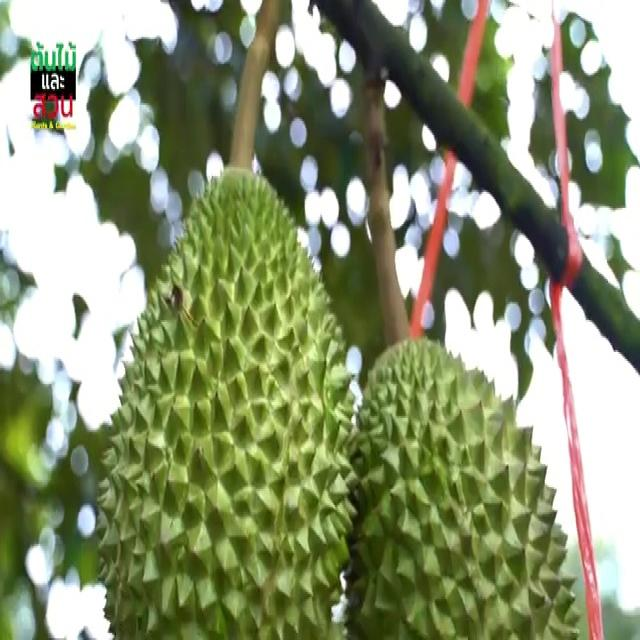durian: (93, 161, 360, 636), (338, 328, 582, 636)
